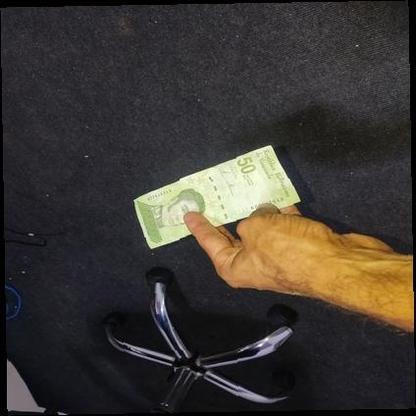fifty-front-vef: (132, 145, 301, 250)
